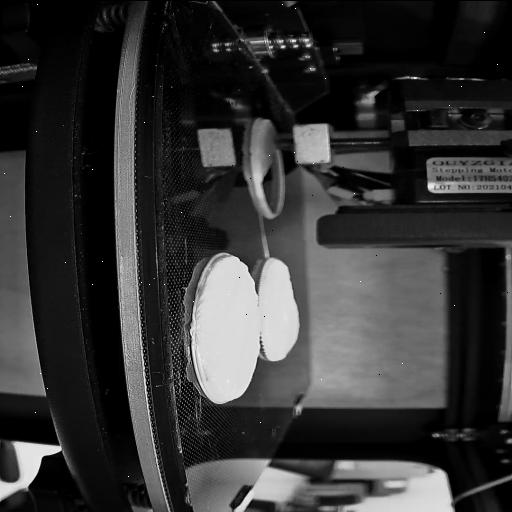over_extrusion: (212, 252, 244, 270)
